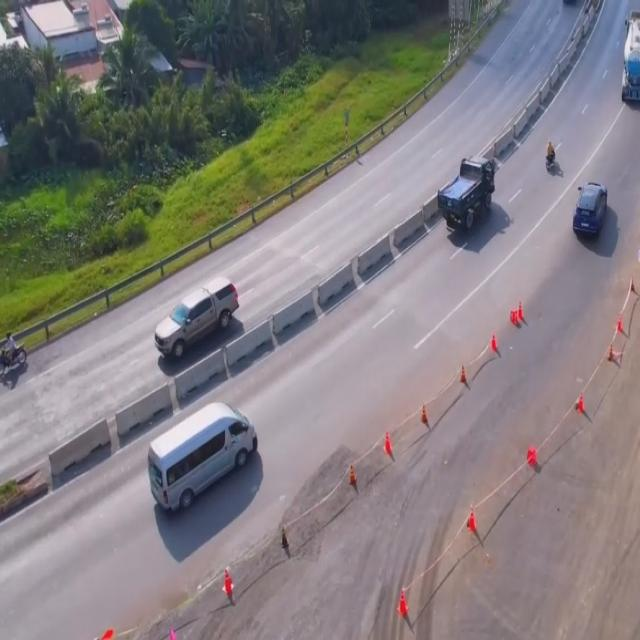car: (148, 399, 262, 521), (156, 276, 238, 365), (569, 181, 605, 243)
motorbike: (0, 333, 28, 389)
truck: (441, 154, 498, 238), (623, 1, 640, 108), (543, 141, 558, 171)
